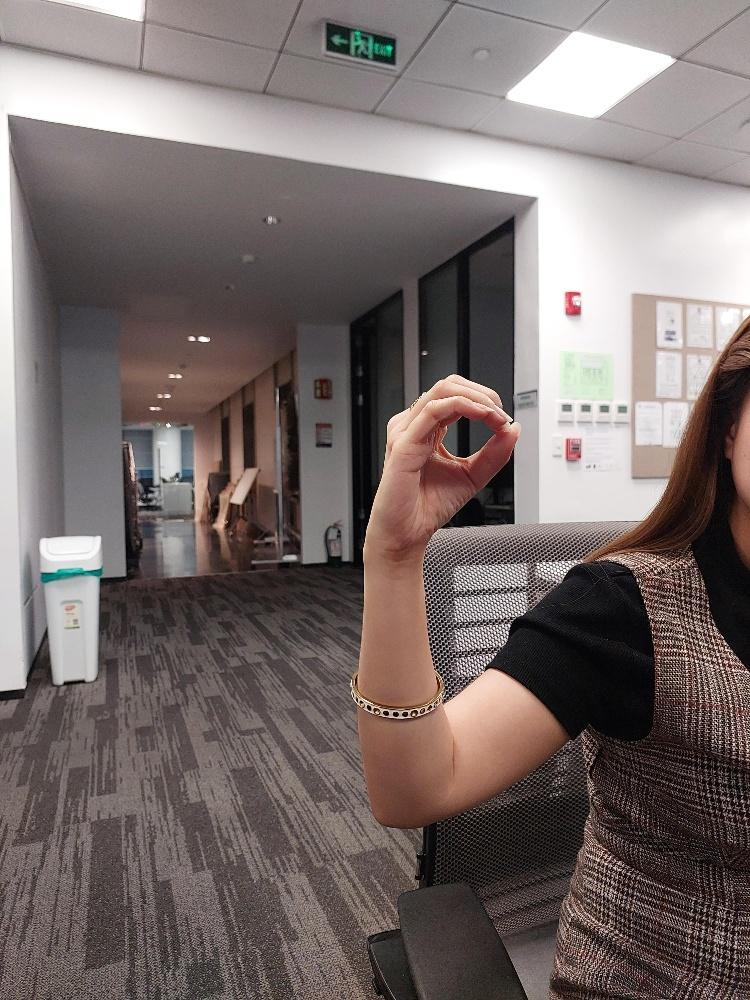o: (360, 370, 521, 565)
